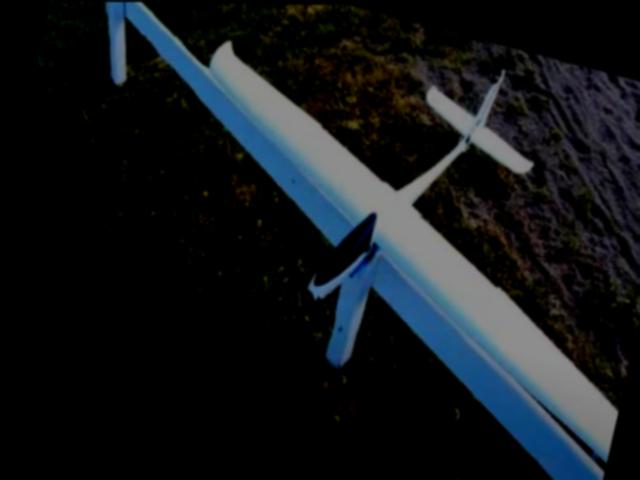iha: (133, 2, 640, 463)
